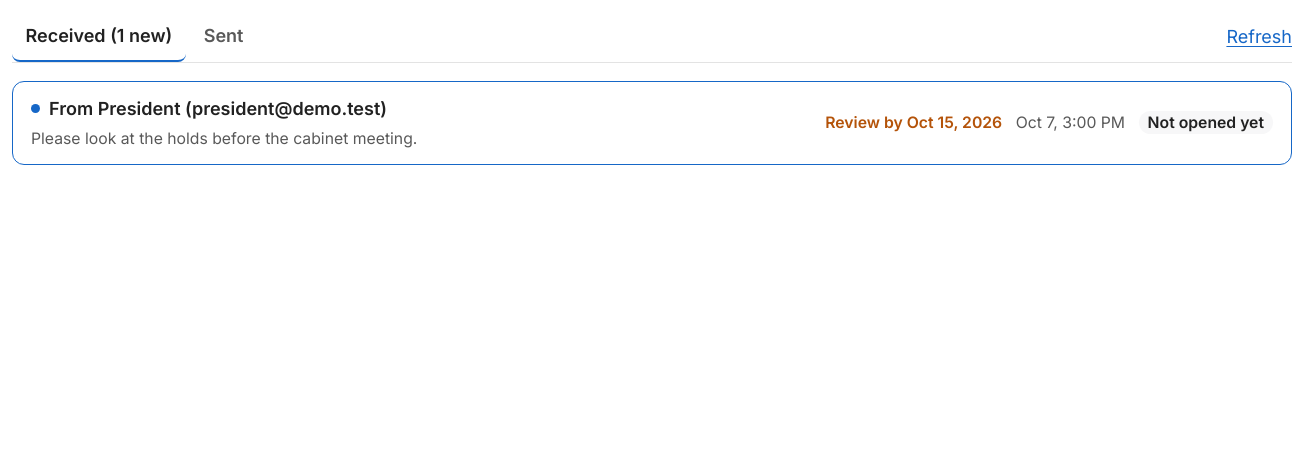
Test: the inbox › opens an alert (marked read), shows what it points at, and marks it reviewed
This screenshot has width=1304, height=466.
Check: the tab "Received (1 new)" is shown, box [12,12,186,62]
Click the button "From President": (73, 108) [31,95,807,150]
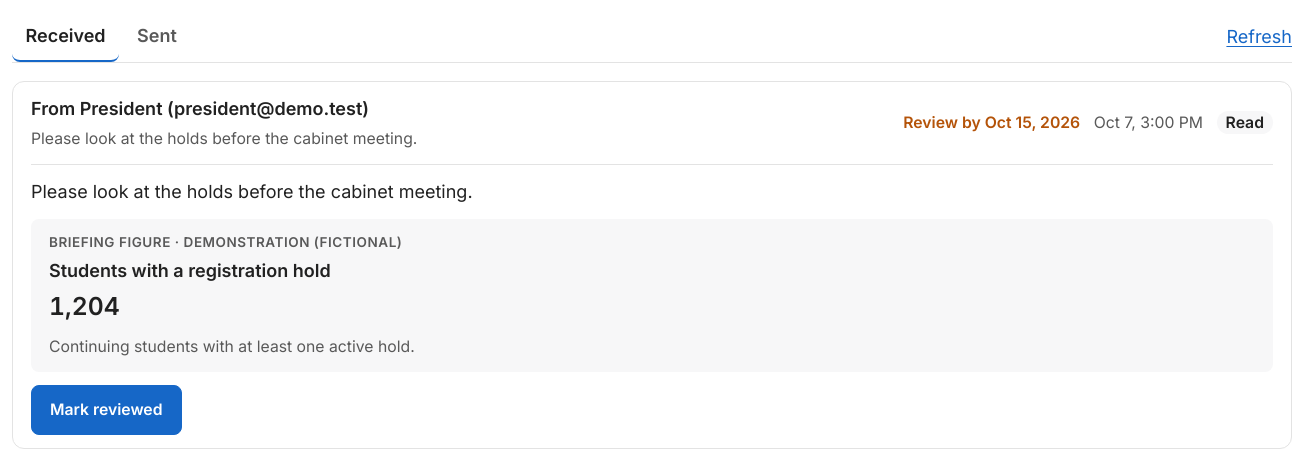
Check: the text "Review by Oct 15, 2026" is shown, box [903,111,1080,134]
Check: the text "1,204" is shown, box [49,291,120,321]
Check: the text "Students with a registration hold" is shown, box [49,260,331,281]
Click the button "Mark reviewed": (106, 410) [31,385,182,435]
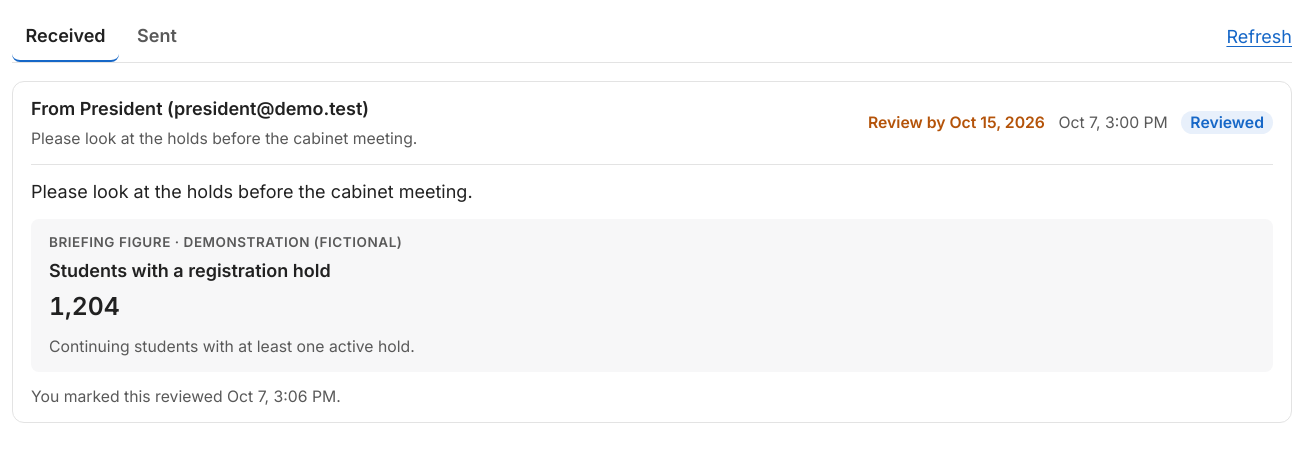
Check: the text "Reviewed" is shown, box [1181,111,1273,134]
